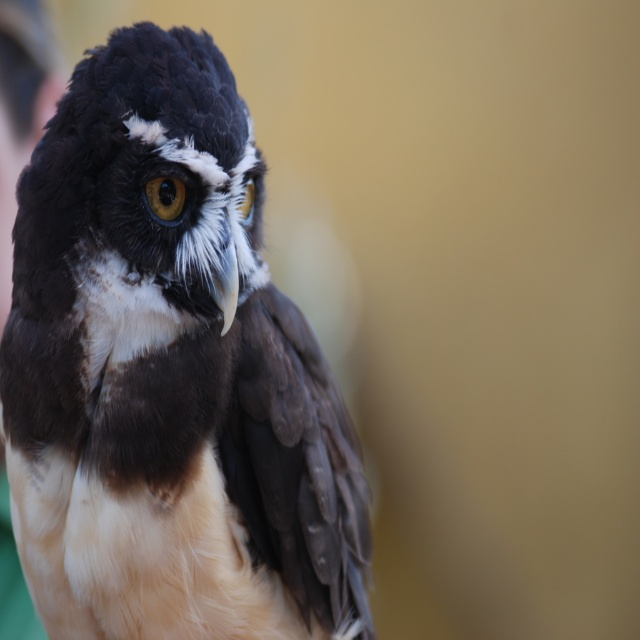Owl: (0, 16, 376, 639)
